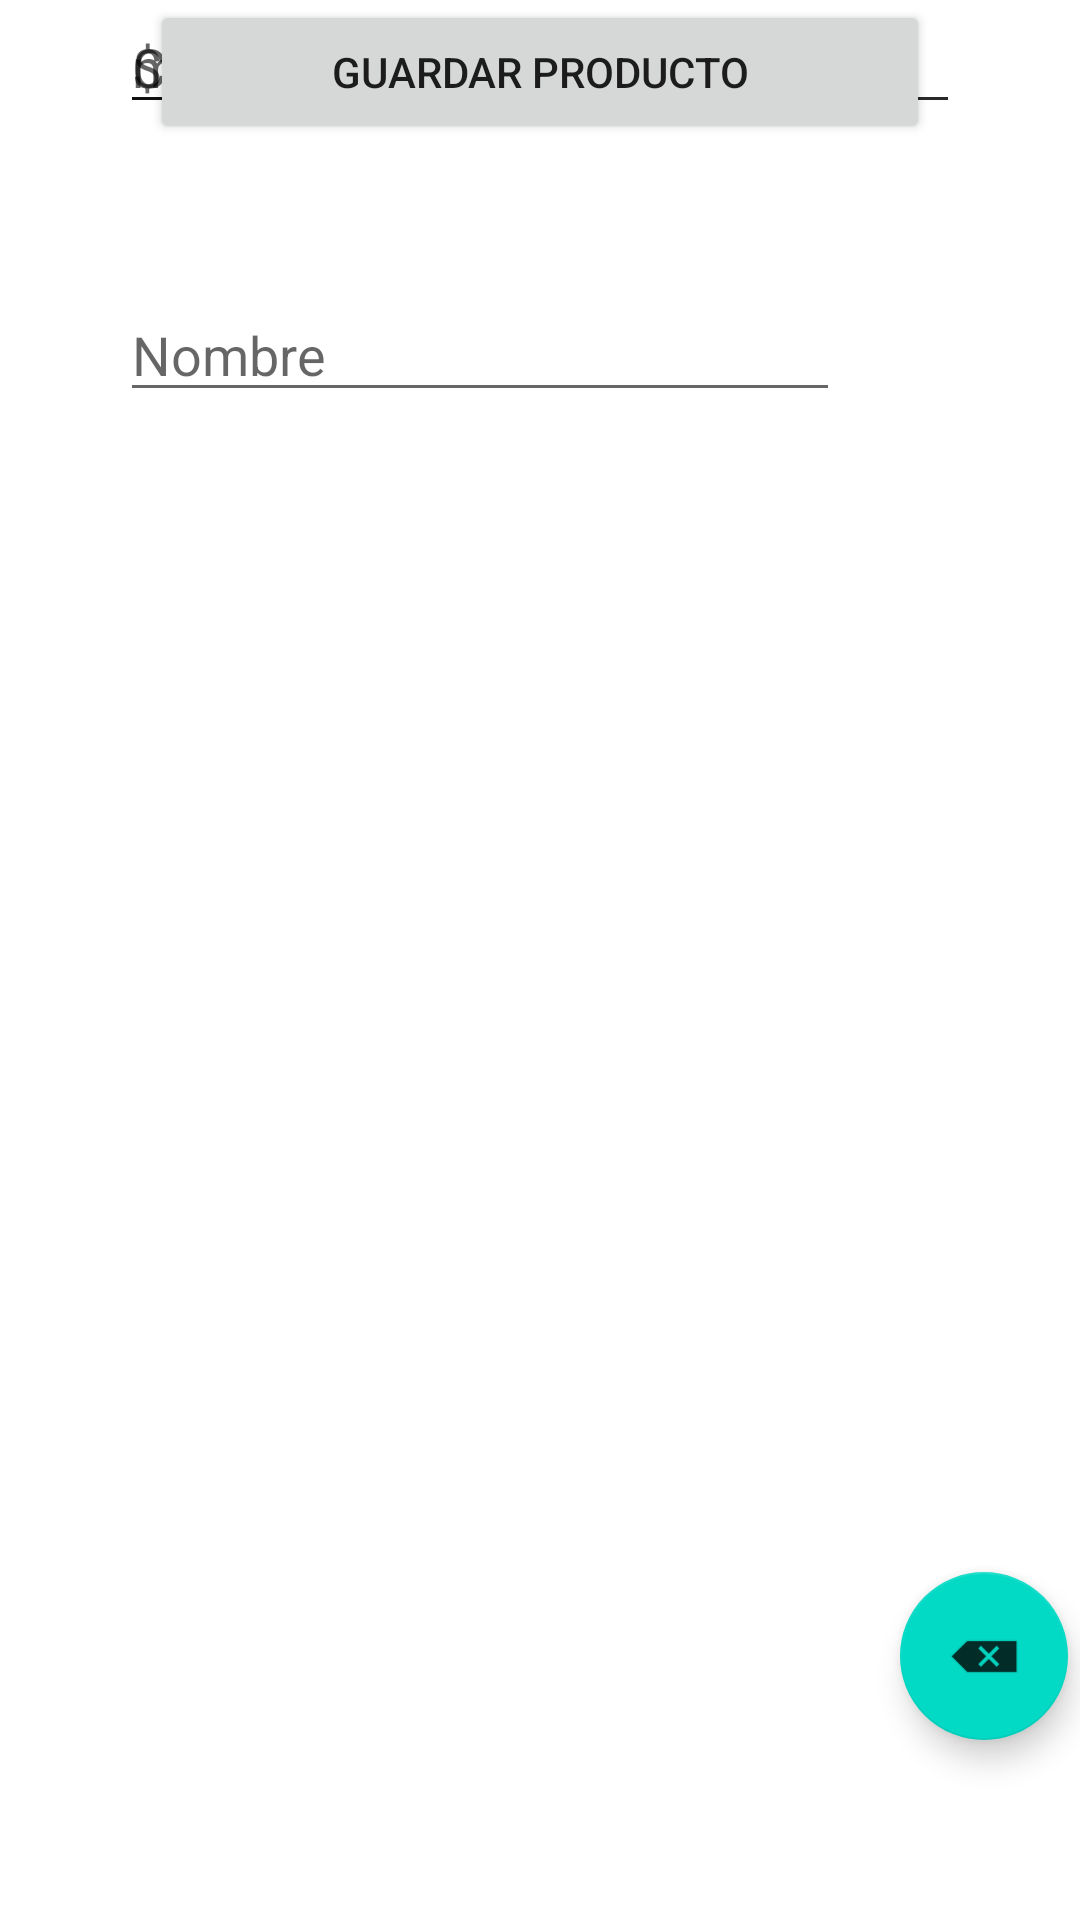

Named icons in this screenshot (1080 x 1920) and their centers, [x,y]:
delete: [984,1656]
